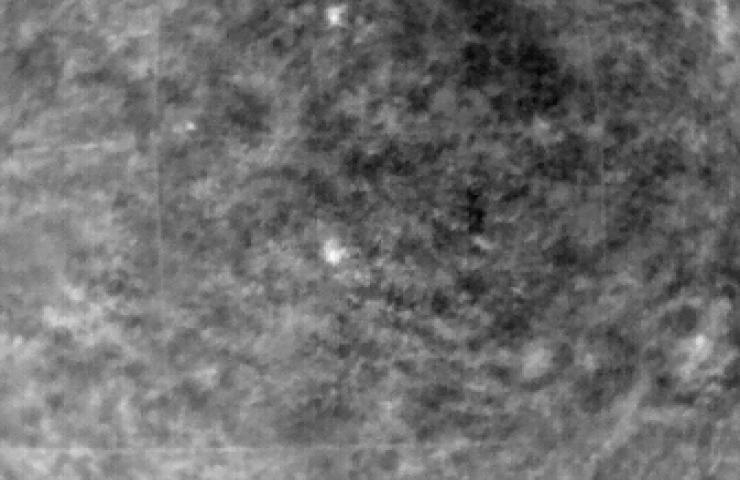landmines: (319, 237, 350, 266)
